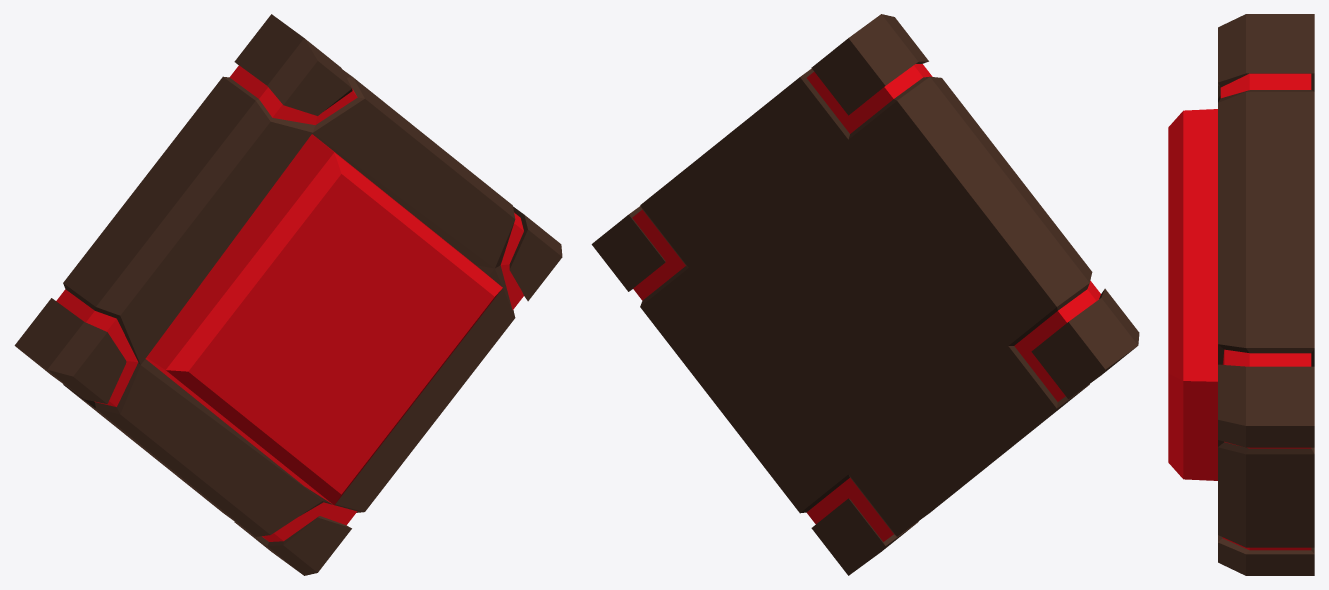
Rendered from Interrupteur_Desactive.fbx.
3 views of the same model, side by side, from view 1: azimuth 30°, elevation 25°; view 2: azimuth 150°, elevation 25°; view 3: azimuth 270°, elevation 25° (orthographic). The views are drawn at different scales.
Visible parts, largest first — view 1: Interrupteur_Desactive; view 2: Interrupteur_Desactive; view 3: Interrupteur_Desactive.
Boxes of the visible parts, x1=… form: Interrupteur_Desactive: x1=14, y1=14, x2=562, y2=575; Interrupteur_Desactive: x1=591, y1=14, x2=1139, y2=575; Interrupteur_Desactive: x1=1168, y1=14, x2=1314, y2=575.
Size of the model in its own units: 32.09 by 32.09 by 7.58.
